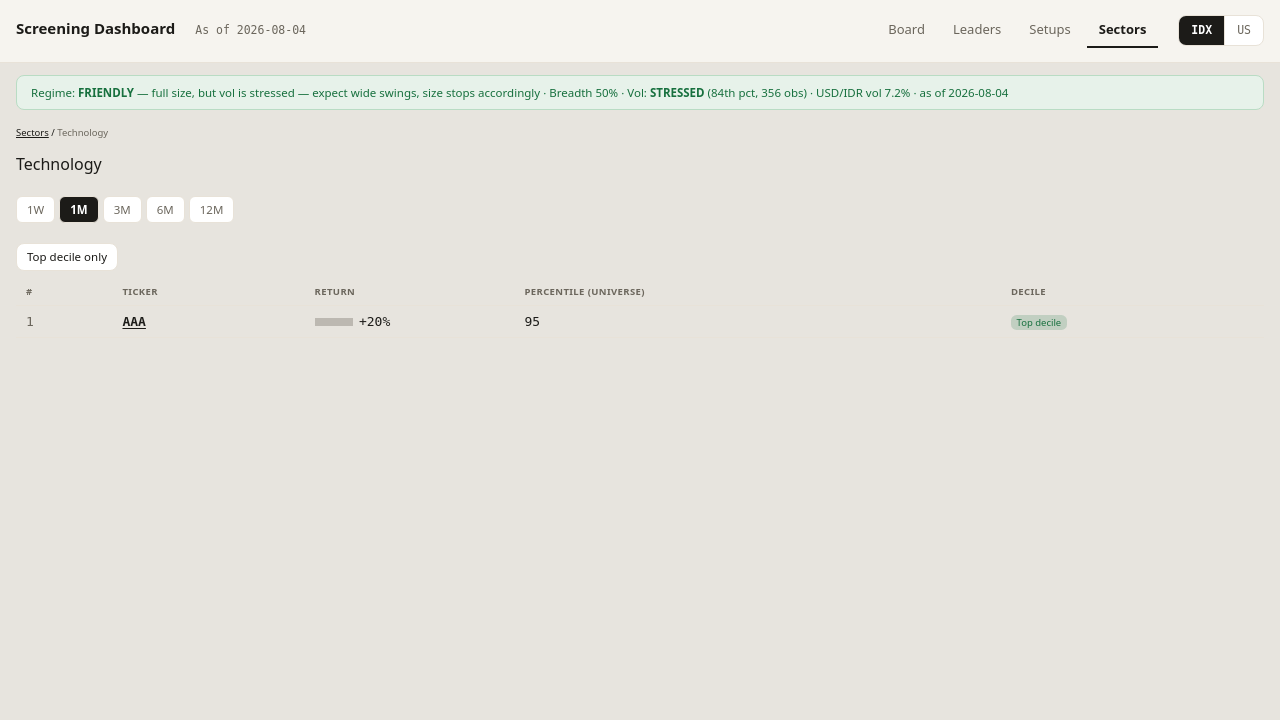
Test: Sector detail — the member table (spec §5.5) › opens the chart sheet when a ticker is clicked
The width and height of the screenshot is (1280, 720).
Check: the heading "Technology" is shown, box [16, 153, 102, 175]
What coordinates should you click on to do the following:
click the button "AAA"
I would click on:
 (134, 322)
Its box is [122, 312, 146, 331].
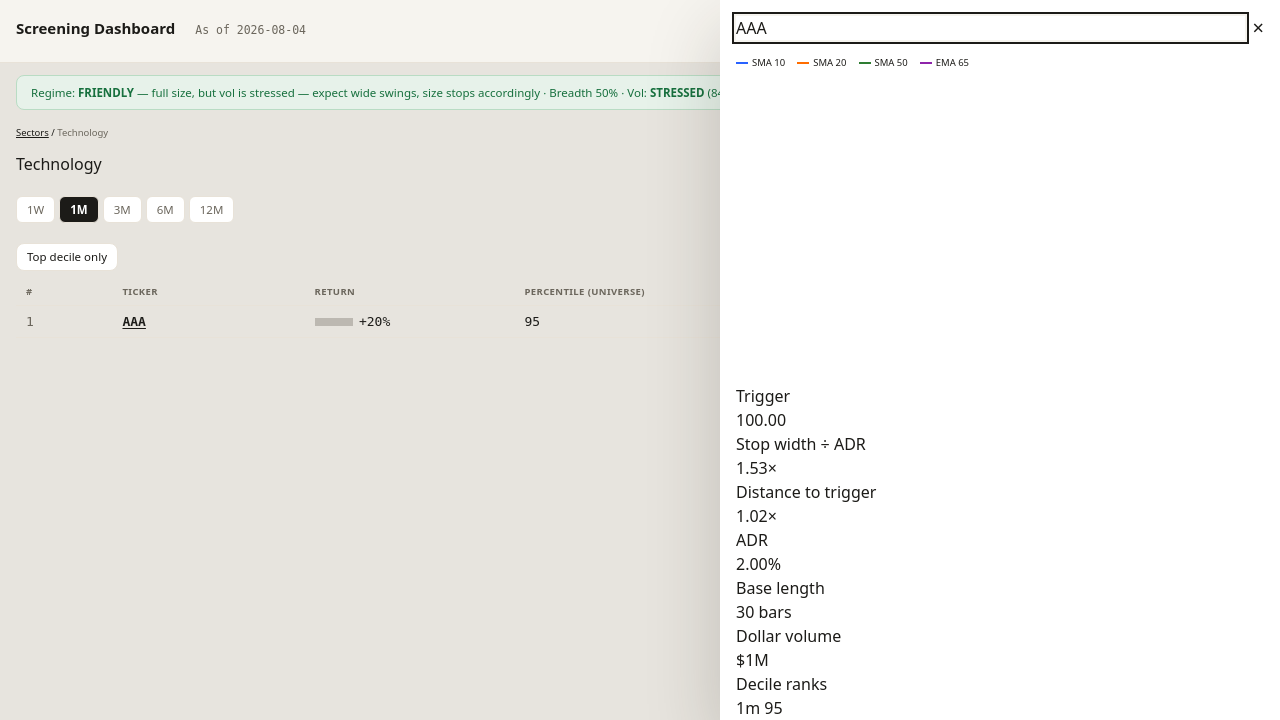
Check: the heading "AAA" is shown, box [736, 16, 1244, 40]
